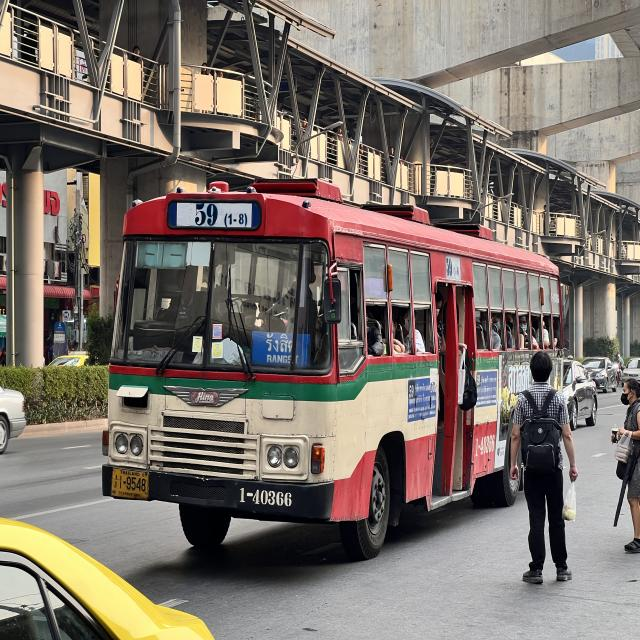BMTA-bus: (94, 165, 572, 562)
Bus-Line-Number: (188, 195, 250, 232)
Destination-Sign-Normal: (250, 331, 311, 370)
